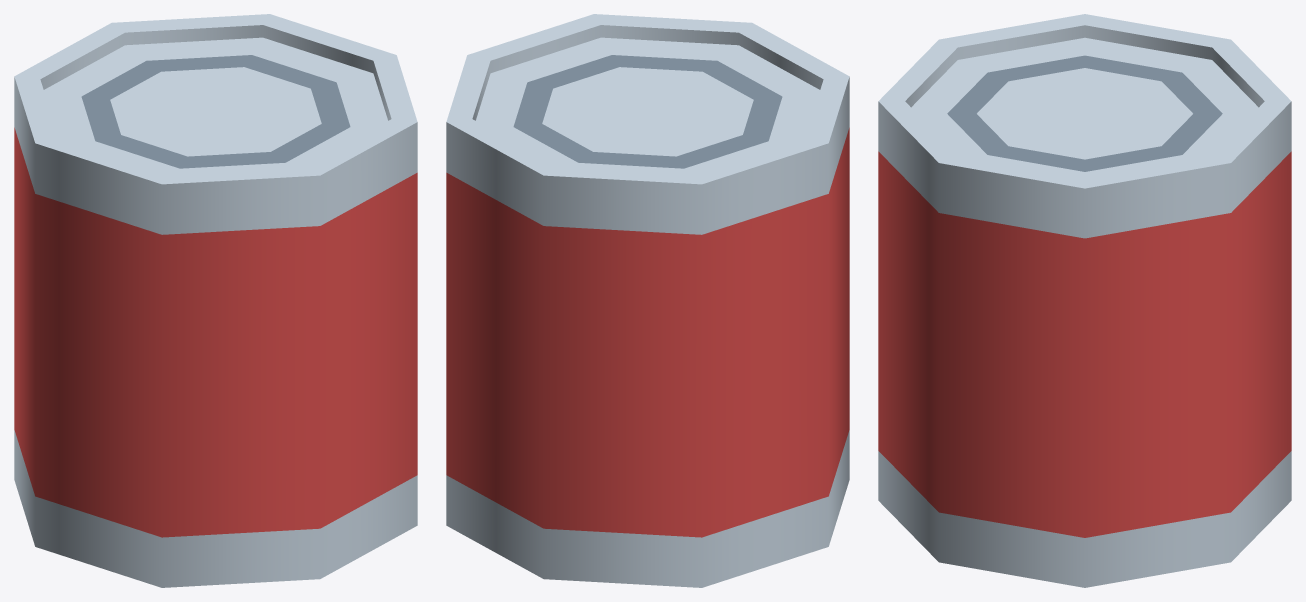
The model's file is can.GLB.
The picture shows the model from 3 angles, left to right: view 1: azimuth 30°, elevation 25°; view 2: azimuth 150°, elevation 25°; view 3: azimuth 270°, elevation 25°; orthographic projection.
Parts seen in each view (by area): view 1: can; view 2: can; view 3: can.
Boxes of the visible parts, x1,y1,x2,y2 form: can: [14, 14, 417, 587]; can: [446, 14, 849, 587]; can: [878, 14, 1291, 587].
Bounding box in the file's own units: 0.3 × 0.32 × 0.3.
